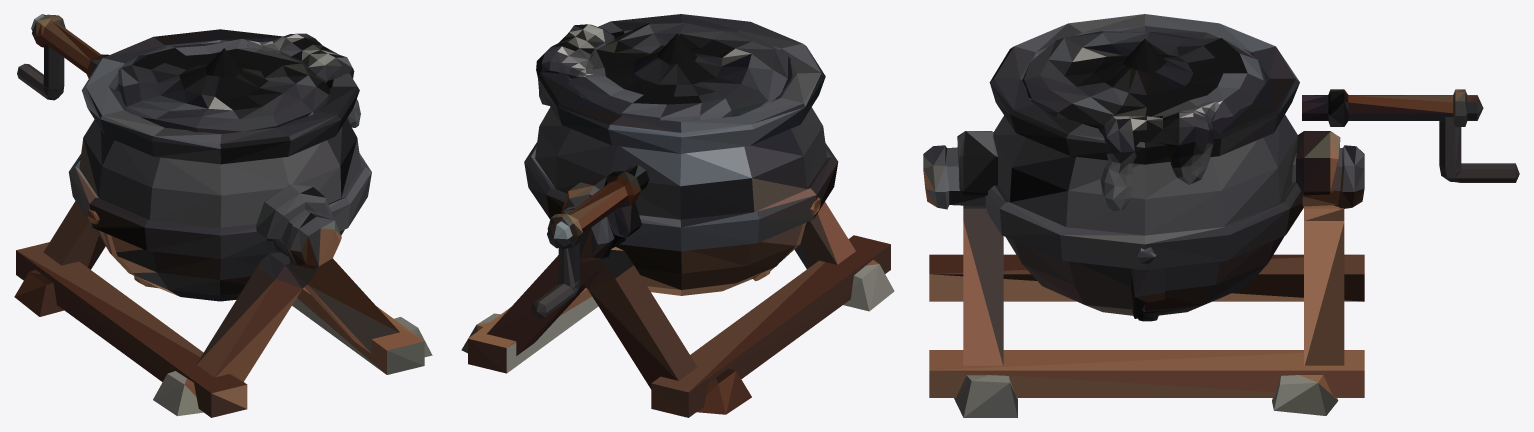
Rendered from Cauldron_Pitch.glb.
3 views of the same model, side by side, from view 1: azimuth 30°, elevation 25°; view 2: azimuth 150°, elevation 25°; view 3: azimuth 270°, elevation 25° (orthographic). The views are drawn at different scales.
Parts seen in each view (by area): view 1: world; view 2: world; view 3: world.
Boxes of the visible parts, left/top/right/bottom form: world: left=14, top=14, right=432, bottom=417; world: left=461, top=14, right=894, bottom=417; world: left=923, top=14, right=1519, bottom=417.
Size of the model in its own units: 0.3262 by 0.332 by 0.5781.
